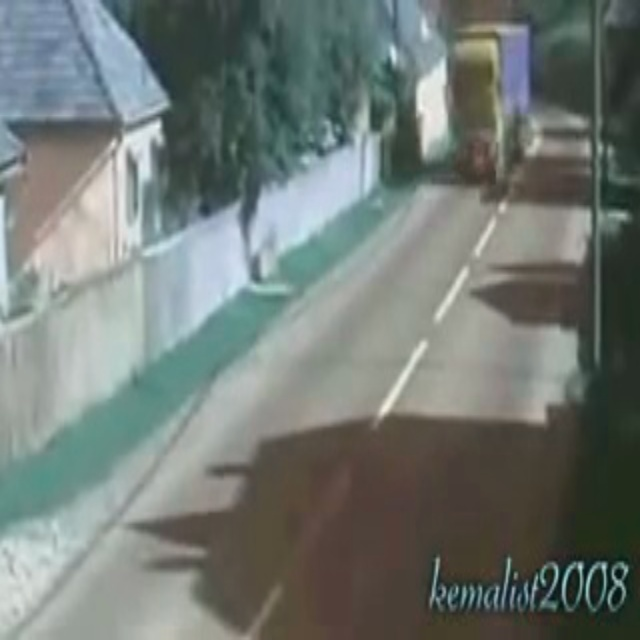acc: (443, 106, 526, 196)
